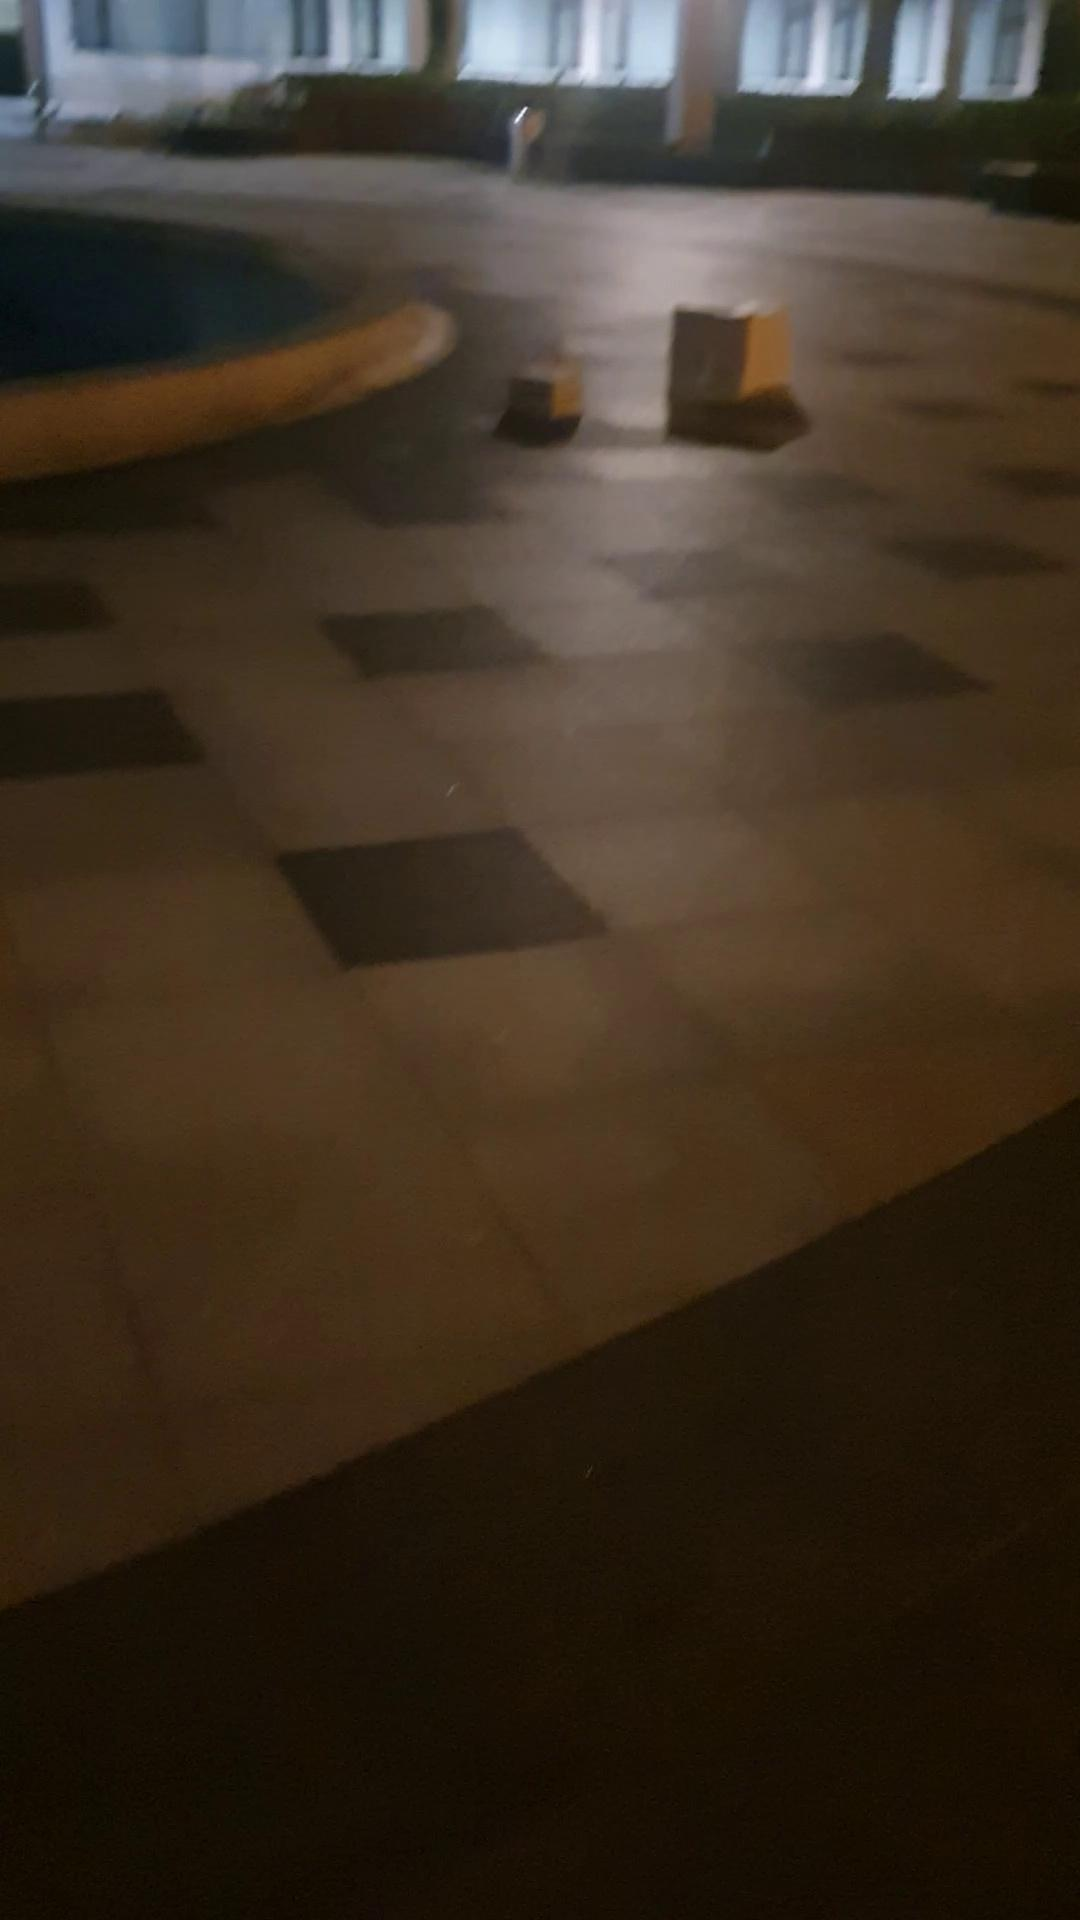Box: (661, 270, 790, 433), (502, 355, 585, 435)
